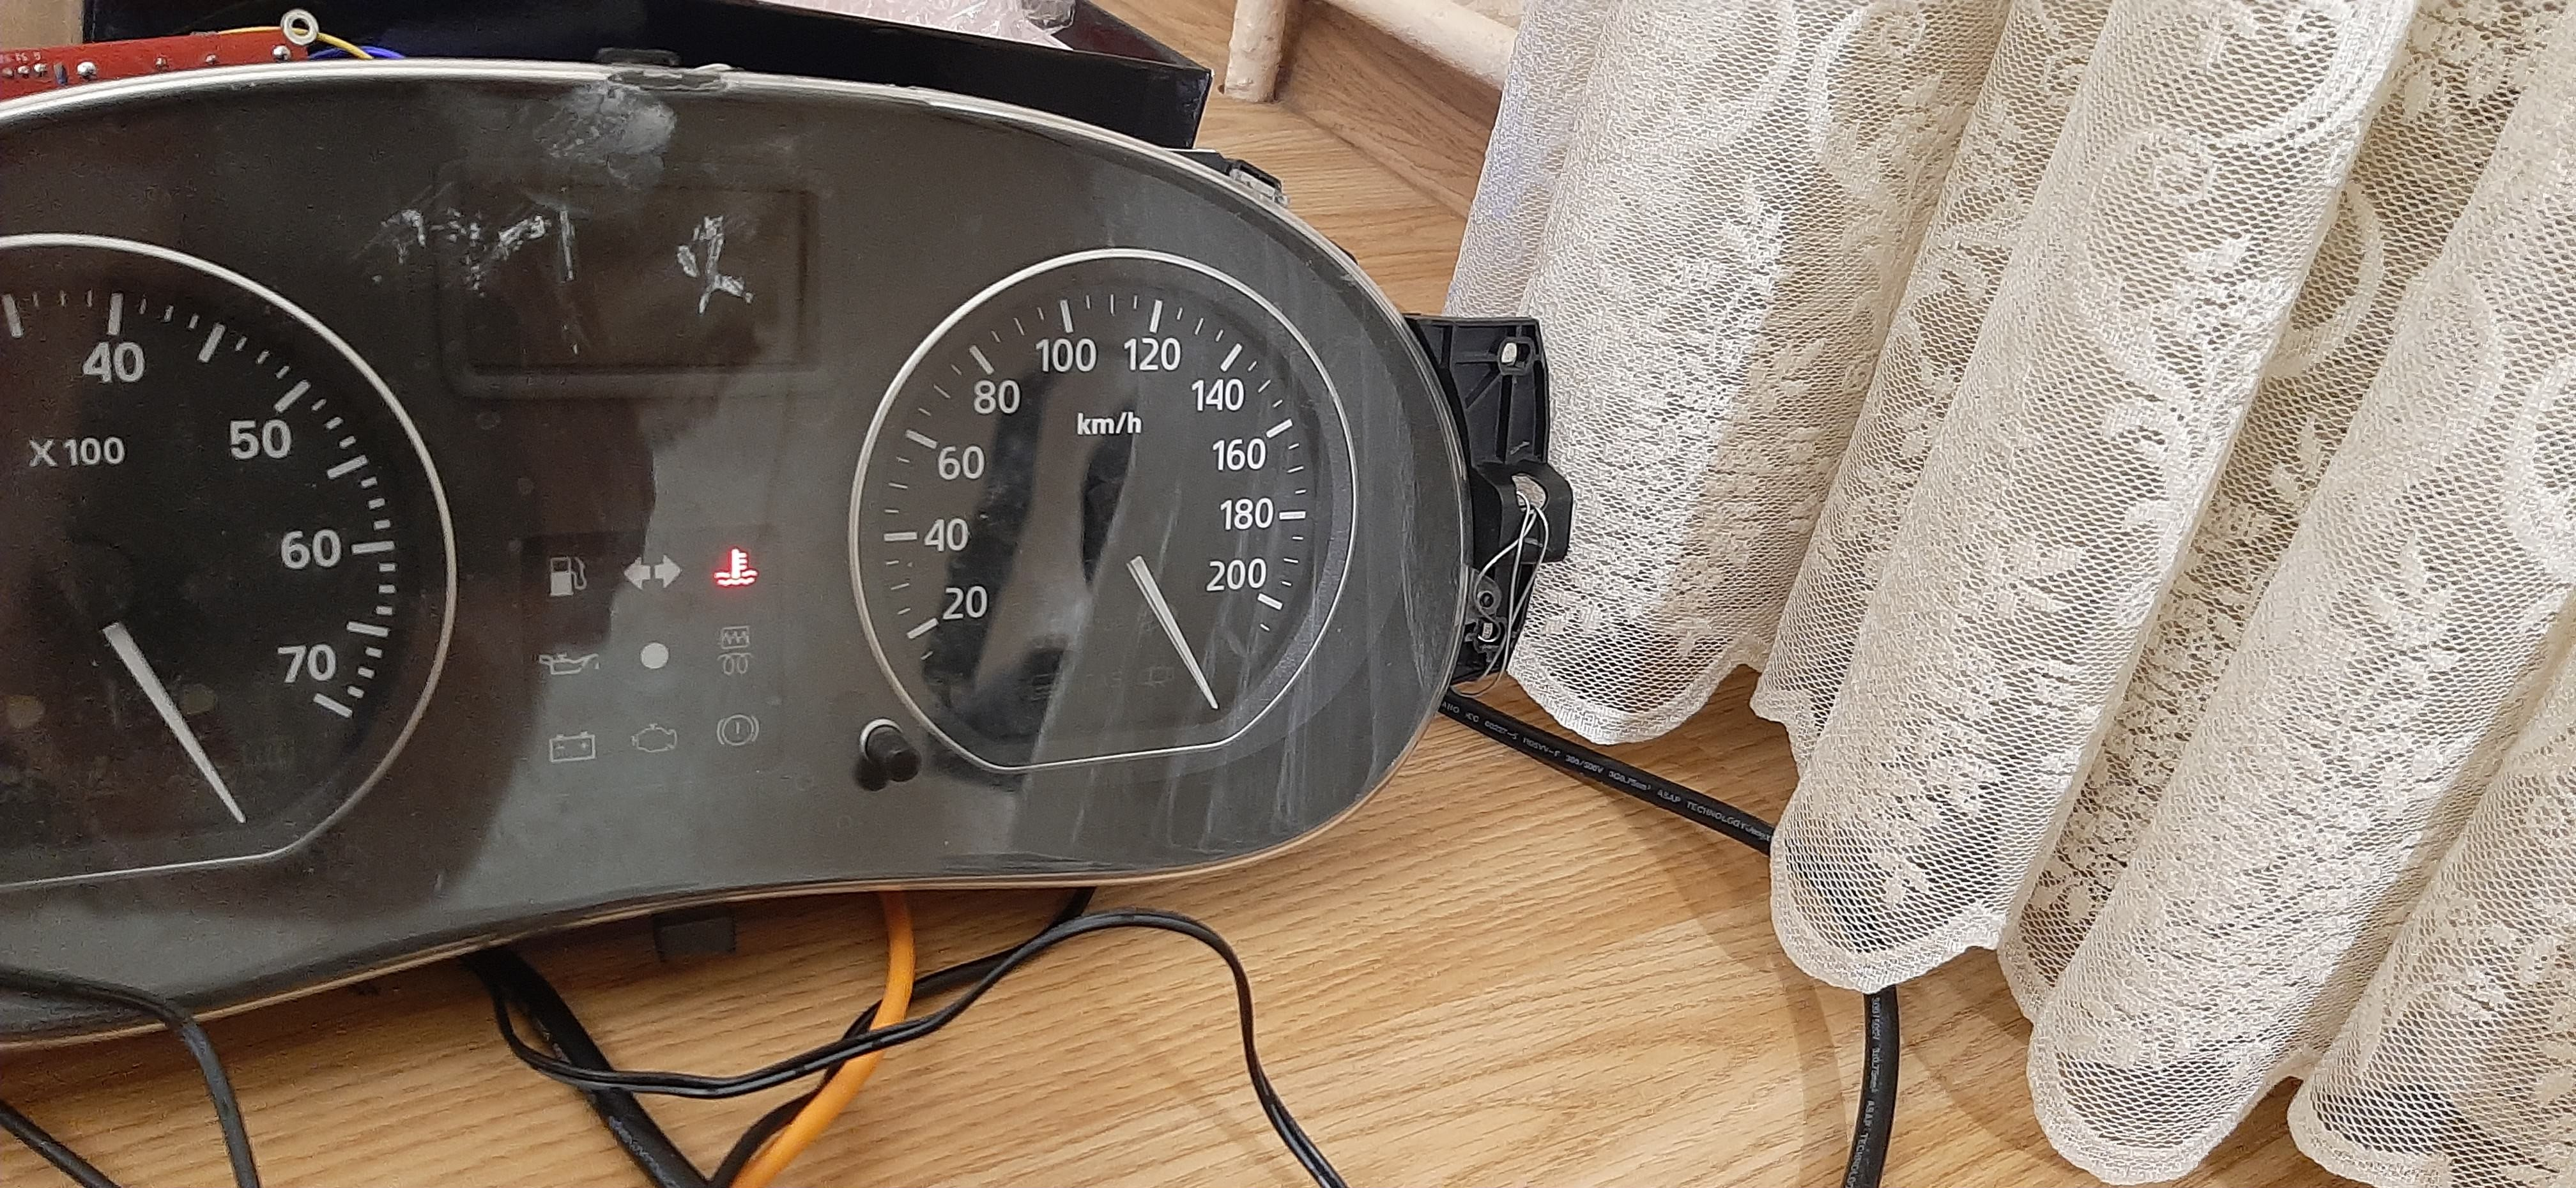Engine Overheating20: (711, 547, 762, 588)
